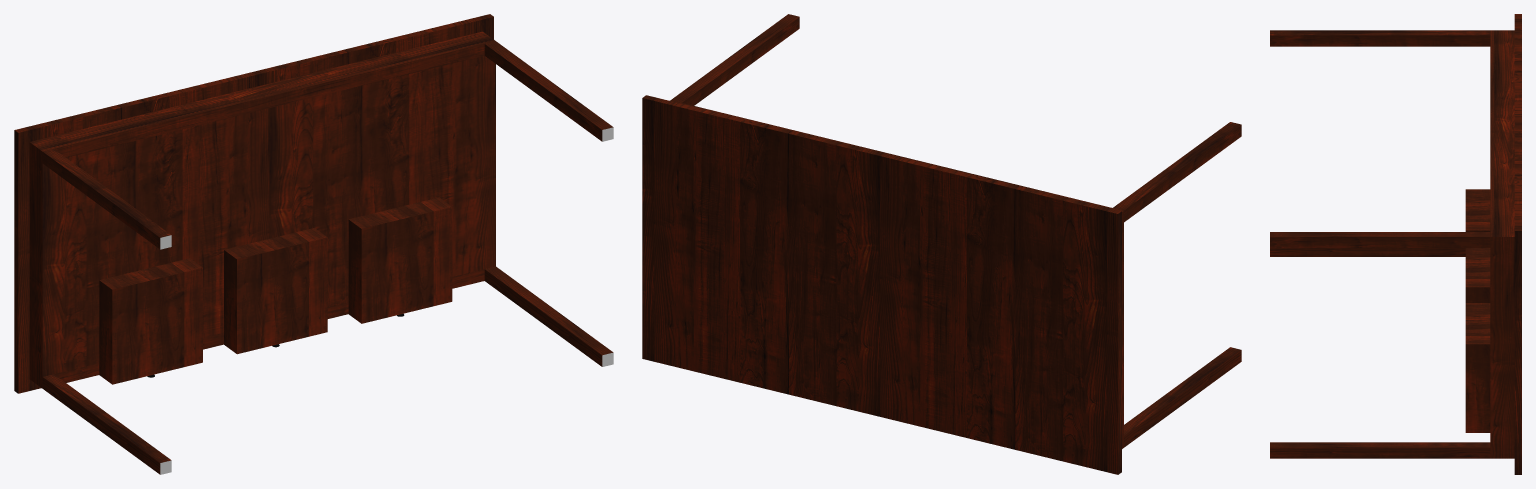
Rendered from DeskWithDrawers.fbx.
3 views of the same model, side by side, from view 1: azimuth 30°, elevation 25°; view 2: azimuth 150°, elevation 25°; view 3: azimuth 270°, elevation 25° (orthographic). The views are drawn at different scales.
Parts seen in each view (by area): view 1: Cube; view 2: Cube; view 3: Cube.
Part boxes in pixels (x1=…): Cube: x1=14, y1=14, x2=613, y2=474; Cube: x1=642, y1=14, x2=1241, y2=474; Cube: x1=1270, y1=14, x2=1521, y2=474.
Size of the model in its own units: 2.1 by 1.1 by 1.03.
